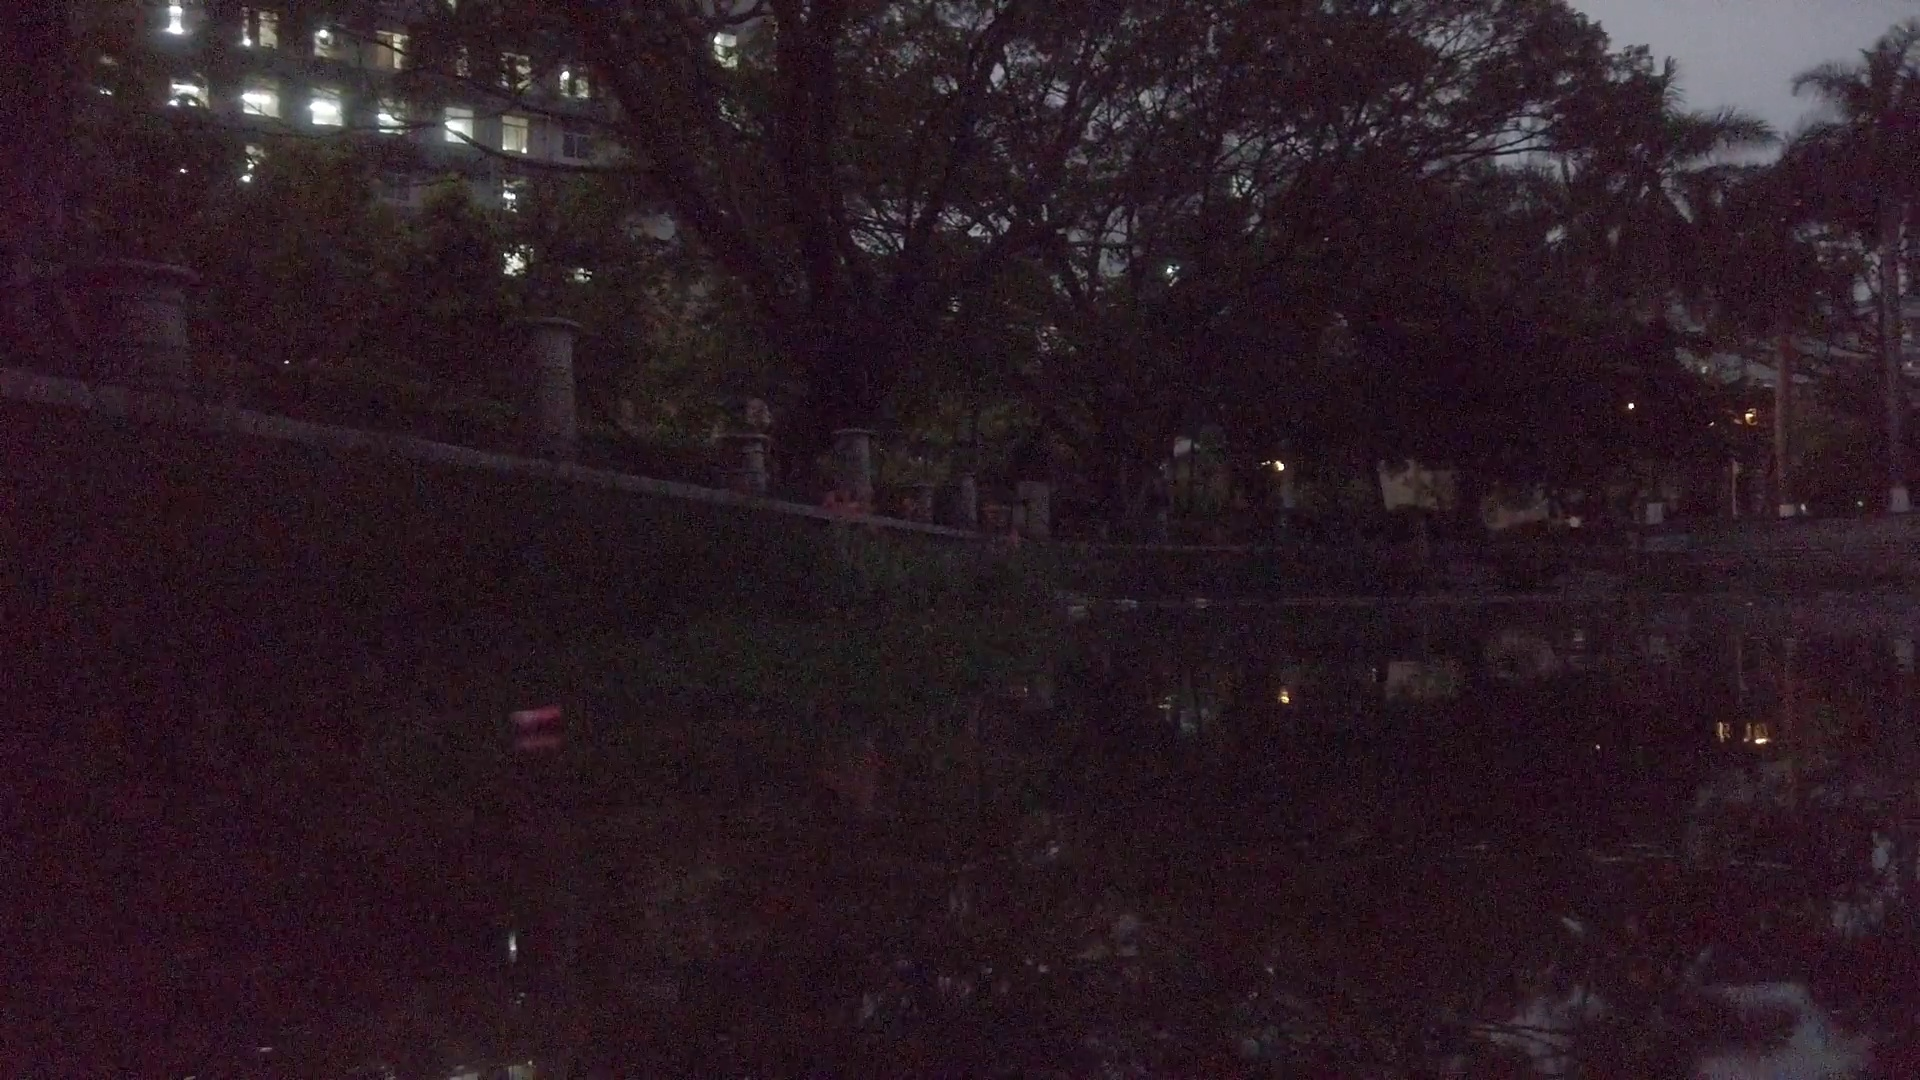bottle: (513, 707, 564, 733), (1067, 599, 1091, 617), (1116, 593, 1139, 608), (1192, 593, 1209, 605)
